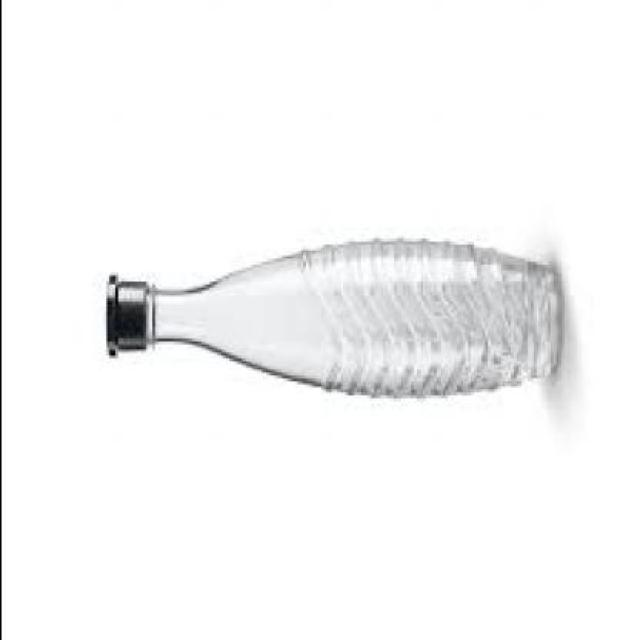glass: (137, 237, 561, 394)
metal: (103, 271, 146, 351)
